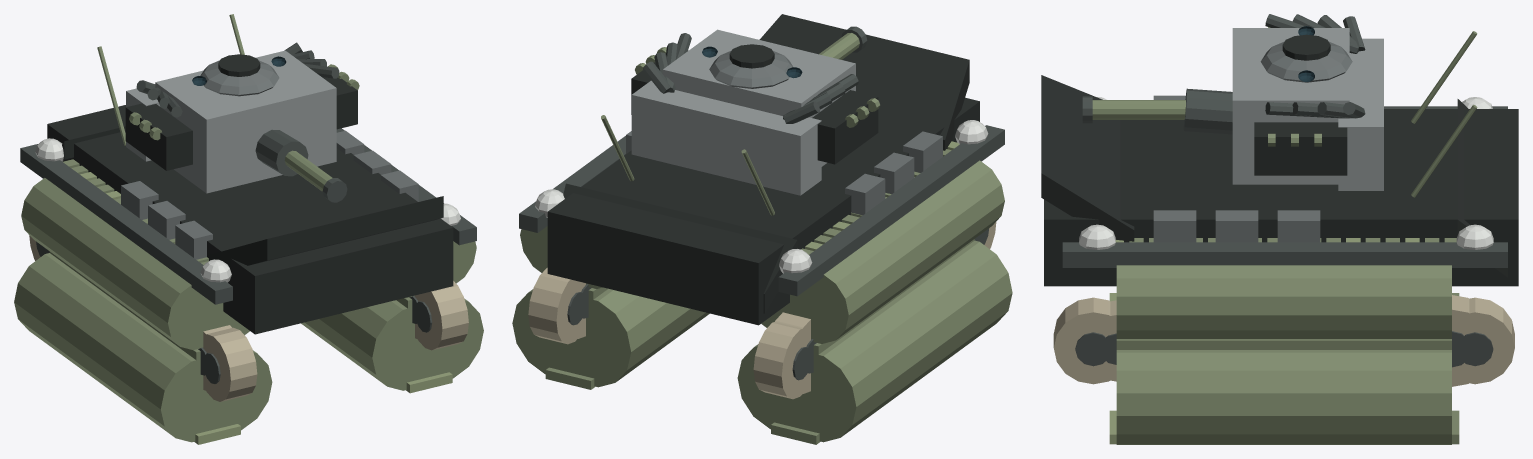
File: harimau-medium-tank.glb
3 renders of one model, left to right at view 1: azimuth 30°, elevation 25°; view 2: azimuth 150°, elevation 25°; view 3: azimuth 270°, elevation 25°, orthographic. The views are drawn at different scales.
Parts seen in each view (by area): view 1: harimau-medium-tank; view 2: harimau-medium-tank; view 3: harimau-medium-tank.
Part boxes in pixels (x1,y1,x2,y2): harimau-medium-tank: (14,14,483,444); harimau-medium-tank: (512,14,1012,444); harimau-medium-tank: (1041,14,1518,444).
Bounding box in the file's own units: 2.2 × 1.87 × 2.46.
